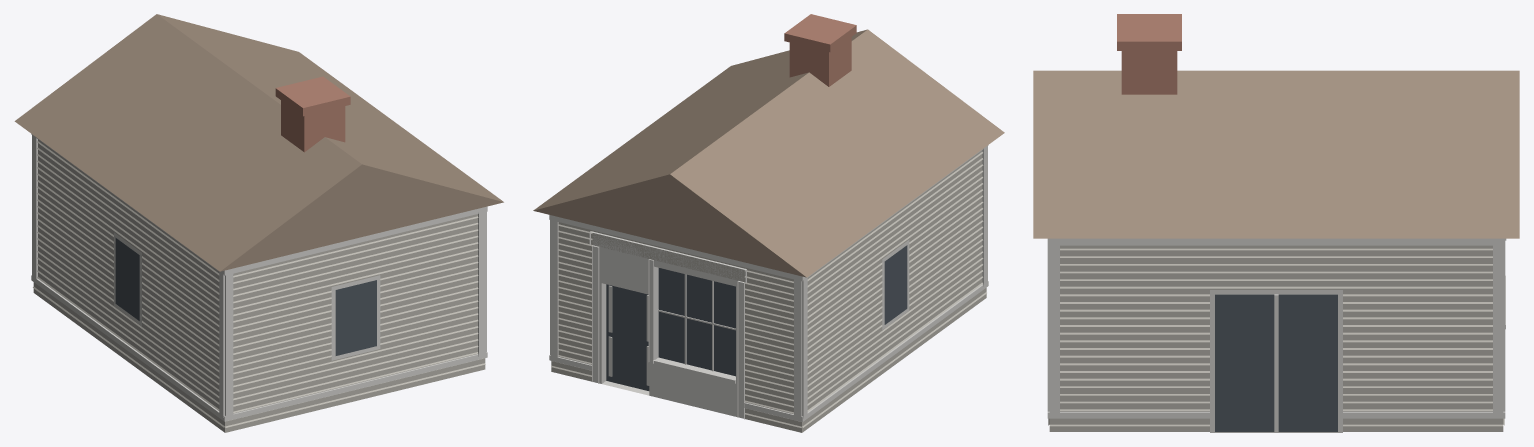
File: recon_1835_north_c1_020__inferred_1835.glb
3 views of the same model, side by side, from view 1: azimuth 30°, elevation 25°; view 2: azimuth 150°, elevation 25°; view 3: azimuth 270°, elevation 25° (orthographic). The views are drawn at different scales.
Parts seen in each view (by area): view 1: recon_1835_north_c1_020__inferred_1835; view 2: recon_1835_north_c1_020__inferred_1835; view 3: recon_1835_north_c1_020__inferred_1835.
Boxes of the visible parts, left/top/right/bottom form: recon_1835_north_c1_020__inferred_1835: left=14, top=14, right=503, bottom=432; recon_1835_north_c1_020__inferred_1835: left=533, top=14, right=1004, bottom=432; recon_1835_north_c1_020__inferred_1835: left=1033, top=14, right=1519, bottom=432.
Size of the model in its own units: 5.85 by 5.47 by 7.32.
